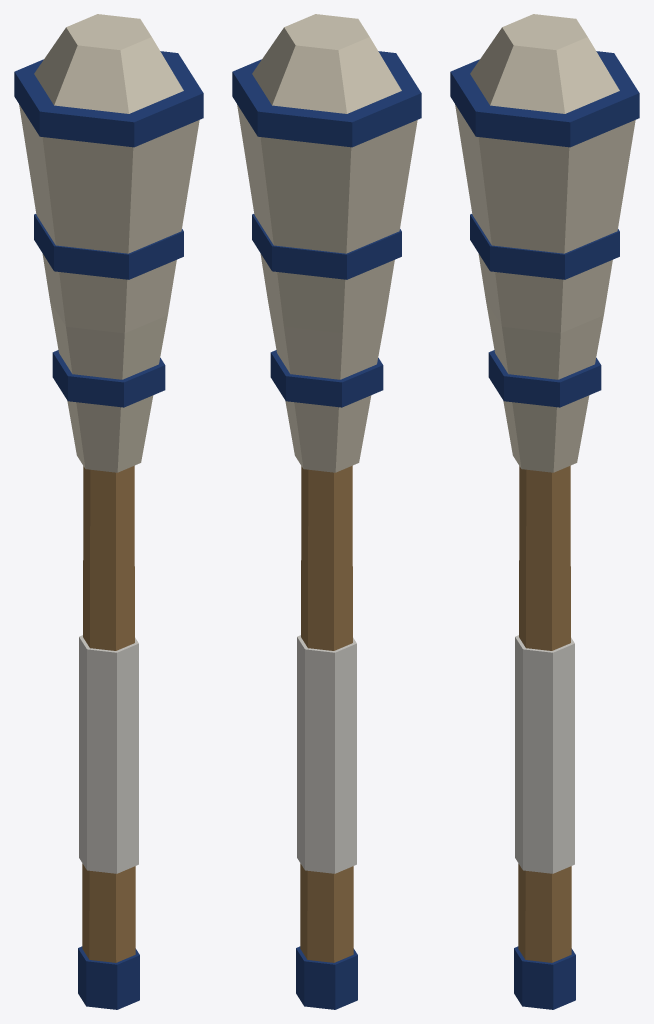
Rendered from weapon_warhammer.glb.
The picture shows the model from 3 angles, left to right: view 1: azimuth 30°, elevation 25°; view 2: azimuth 150°, elevation 25°; view 3: azimuth 270°, elevation 25°; orthographic projection.
Parts seen in each view (by area): view 1: owl_weapon_warhammer; view 2: owl_weapon_warhammer; view 3: owl_weapon_warhammer.
Boxes of the visible parts, box(x1,y1,x2,y2) form: owl_weapon_warhammer: box(14, 14, 203, 1009); owl_weapon_warhammer: box(232, 14, 421, 1009); owl_weapon_warhammer: box(450, 14, 639, 1009).
Bounding box in the file's own units: 0.2046 × 1.15 × 0.2046.
